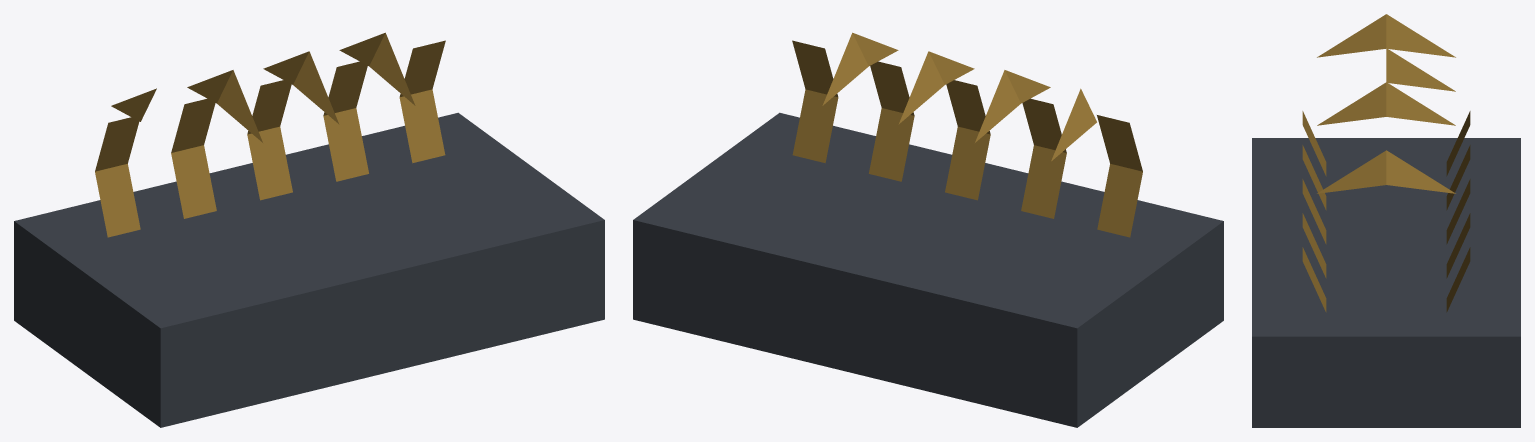
The model's file is mod-oscillator.lod.glb.
3 renders of one model, left to right at view 1: azimuth 30°, elevation 25°; view 2: azimuth 150°, elevation 25°; view 3: azimuth 270°, elevation 25°, orthographic. The views are drawn at different scales.
Parts seen in each view (by area): view 1: m; view 2: m; view 3: m.
Boxes of the visible parts, x1,y1,x2,y2 form: m: [14, 32, 604, 427]; m: [633, 32, 1223, 427]; m: [1252, 14, 1520, 427].
Size of the model in its own units: 0.0693 by 0.0401 by 0.0396.
